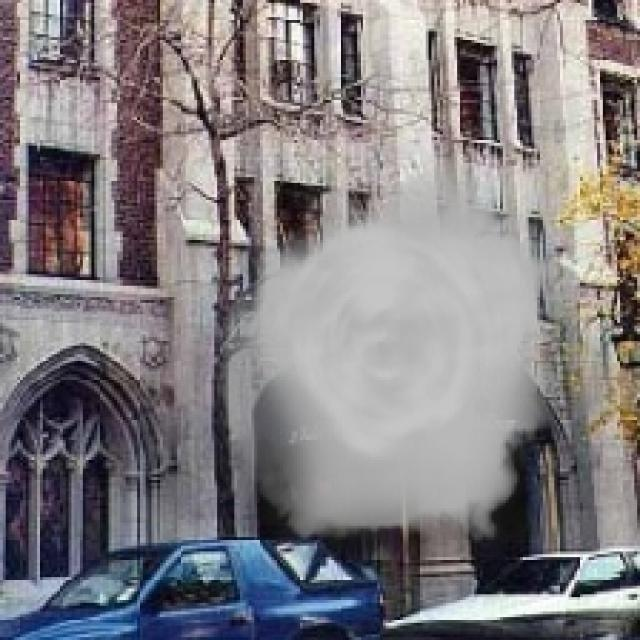Smoke: (217, 151, 563, 560)
